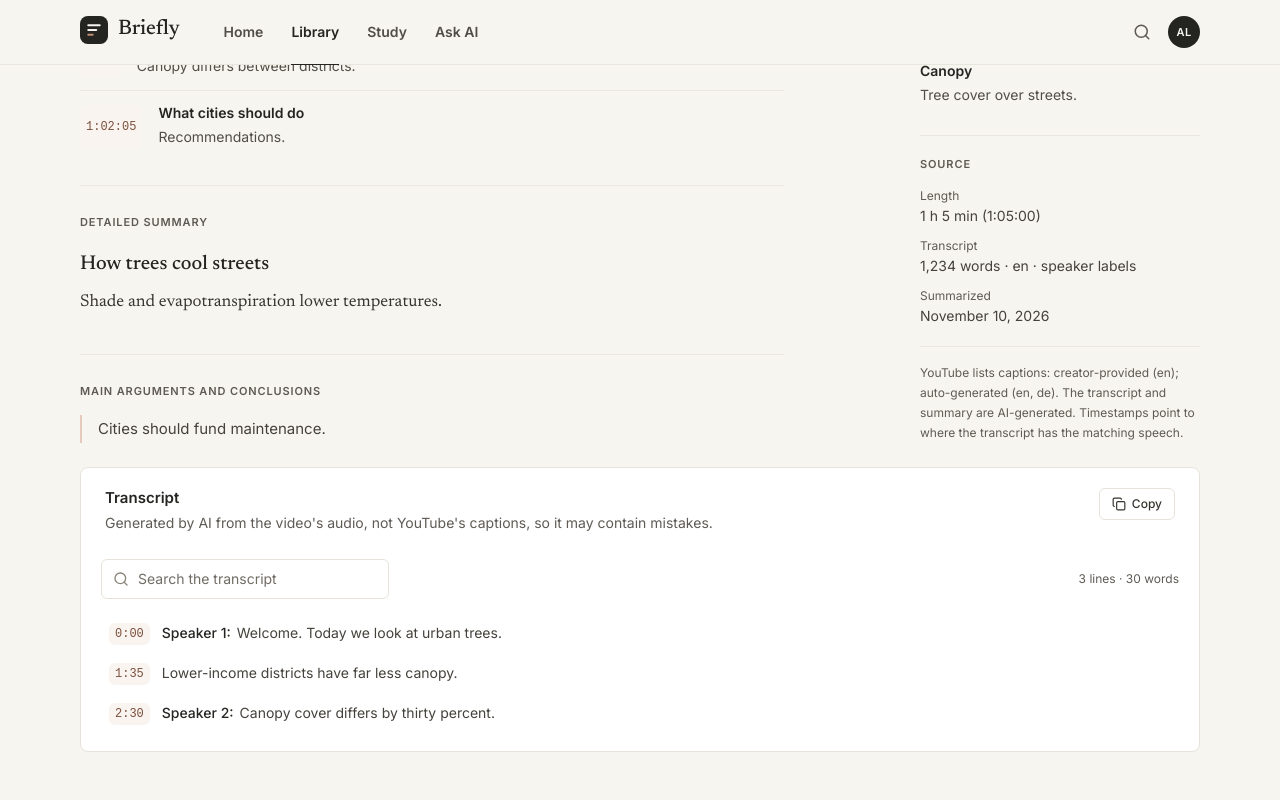
YouTube summary page › transcript viewer: honest origin note, search with highlighting, seek from a line
The width and height of the screenshot is (1280, 800).
(page scrolled)
Expected: the text "not YouTube's captions" is shown, x1=105 y1=514 x2=713 y2=531
Type "canopy" into the search field named "Search transcript" at (245, 579), box x1=101 y1=559 x2=389 y2=599
(page scrolled)
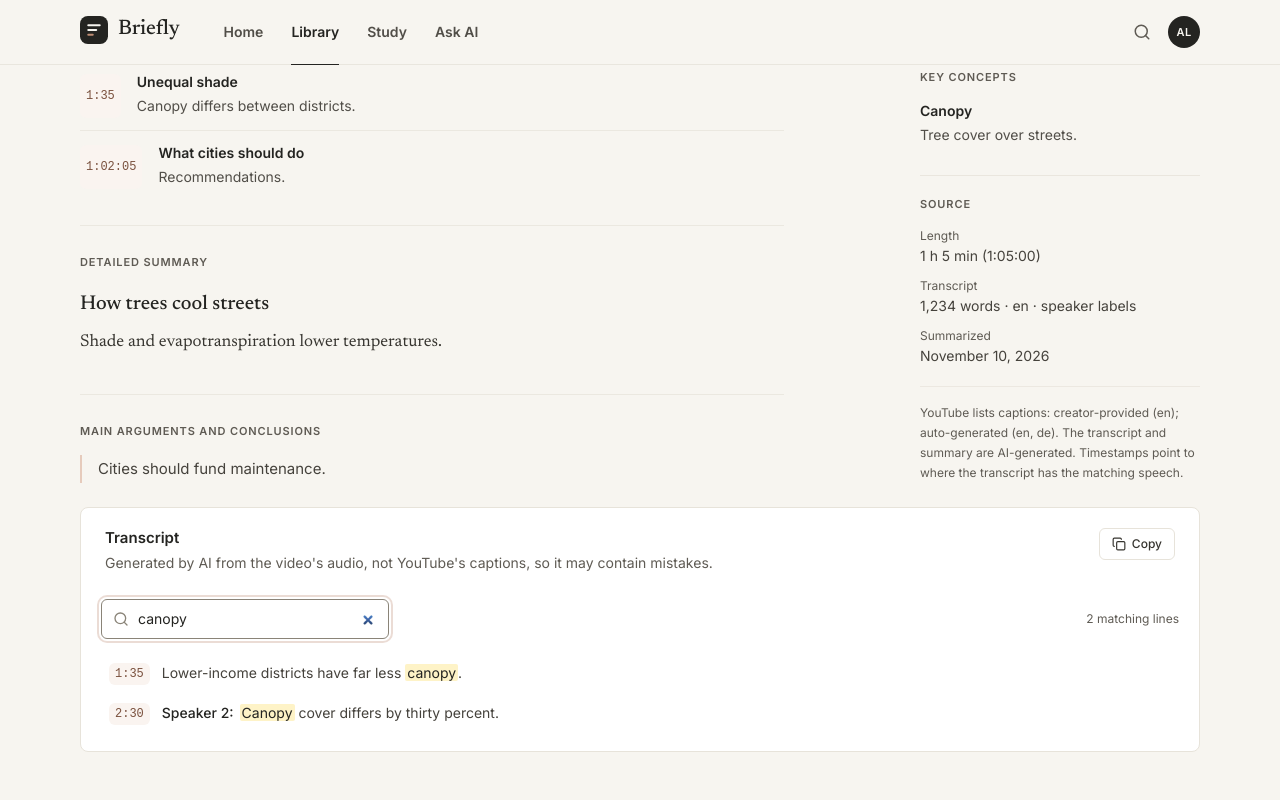
Expected: the text "2 matching lines" is shown, x1=1086 y1=611 x2=1179 y2=627
Click the button named "Play from 2:30" at (129, 714), box x1=109 y1=703 x2=150 y2=725
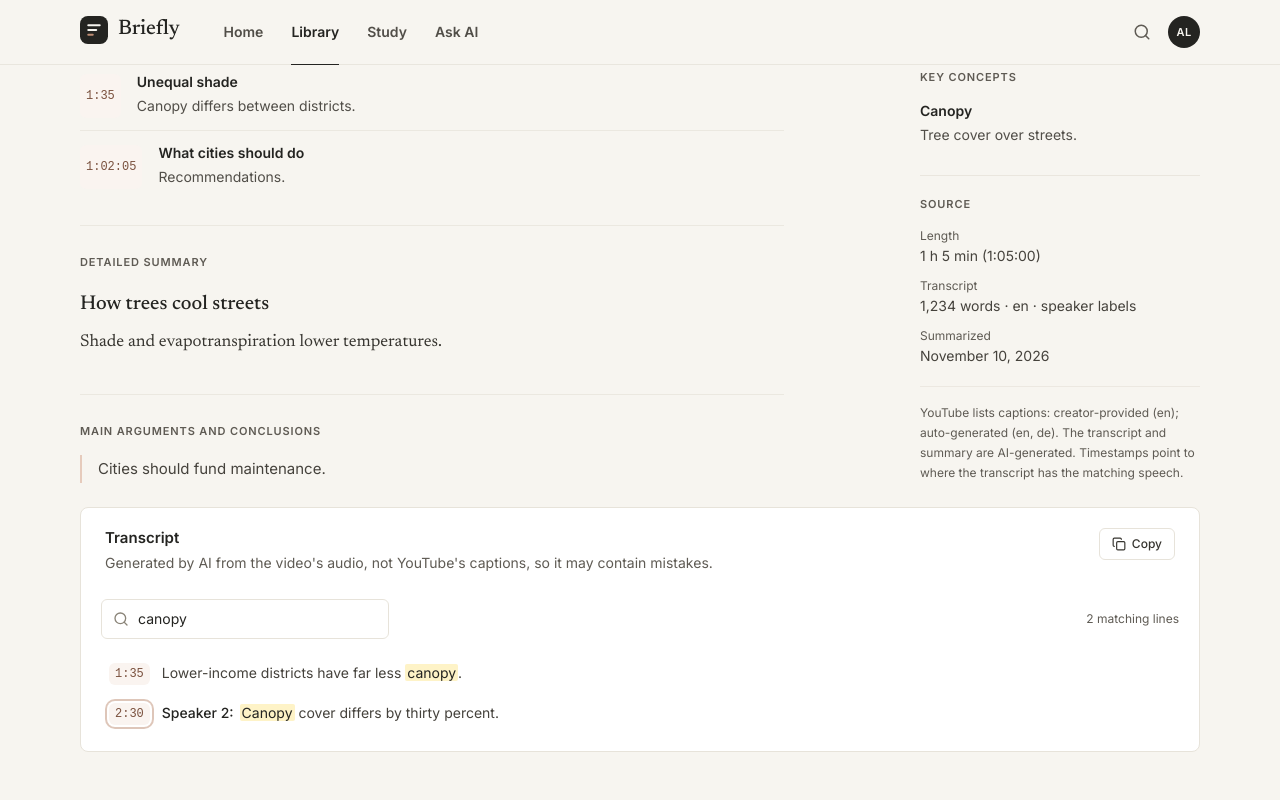
Replace the text in the search field named "Search transcript" with "zebra" at (245, 619), box x1=101 y1=599 x2=389 y2=639
(page scrolled)
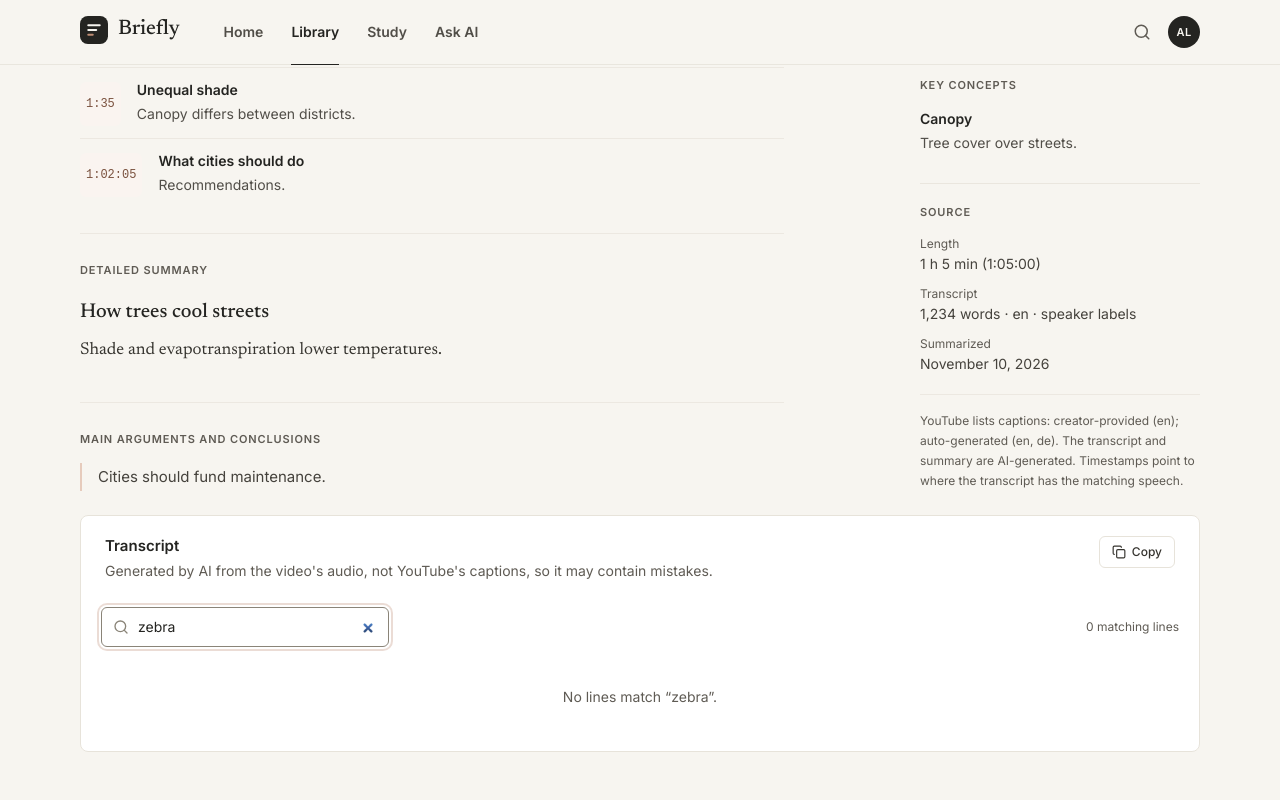
Expected: the text "No lines match “zebra”." is shown, x1=563 y1=688 x2=717 y2=705
